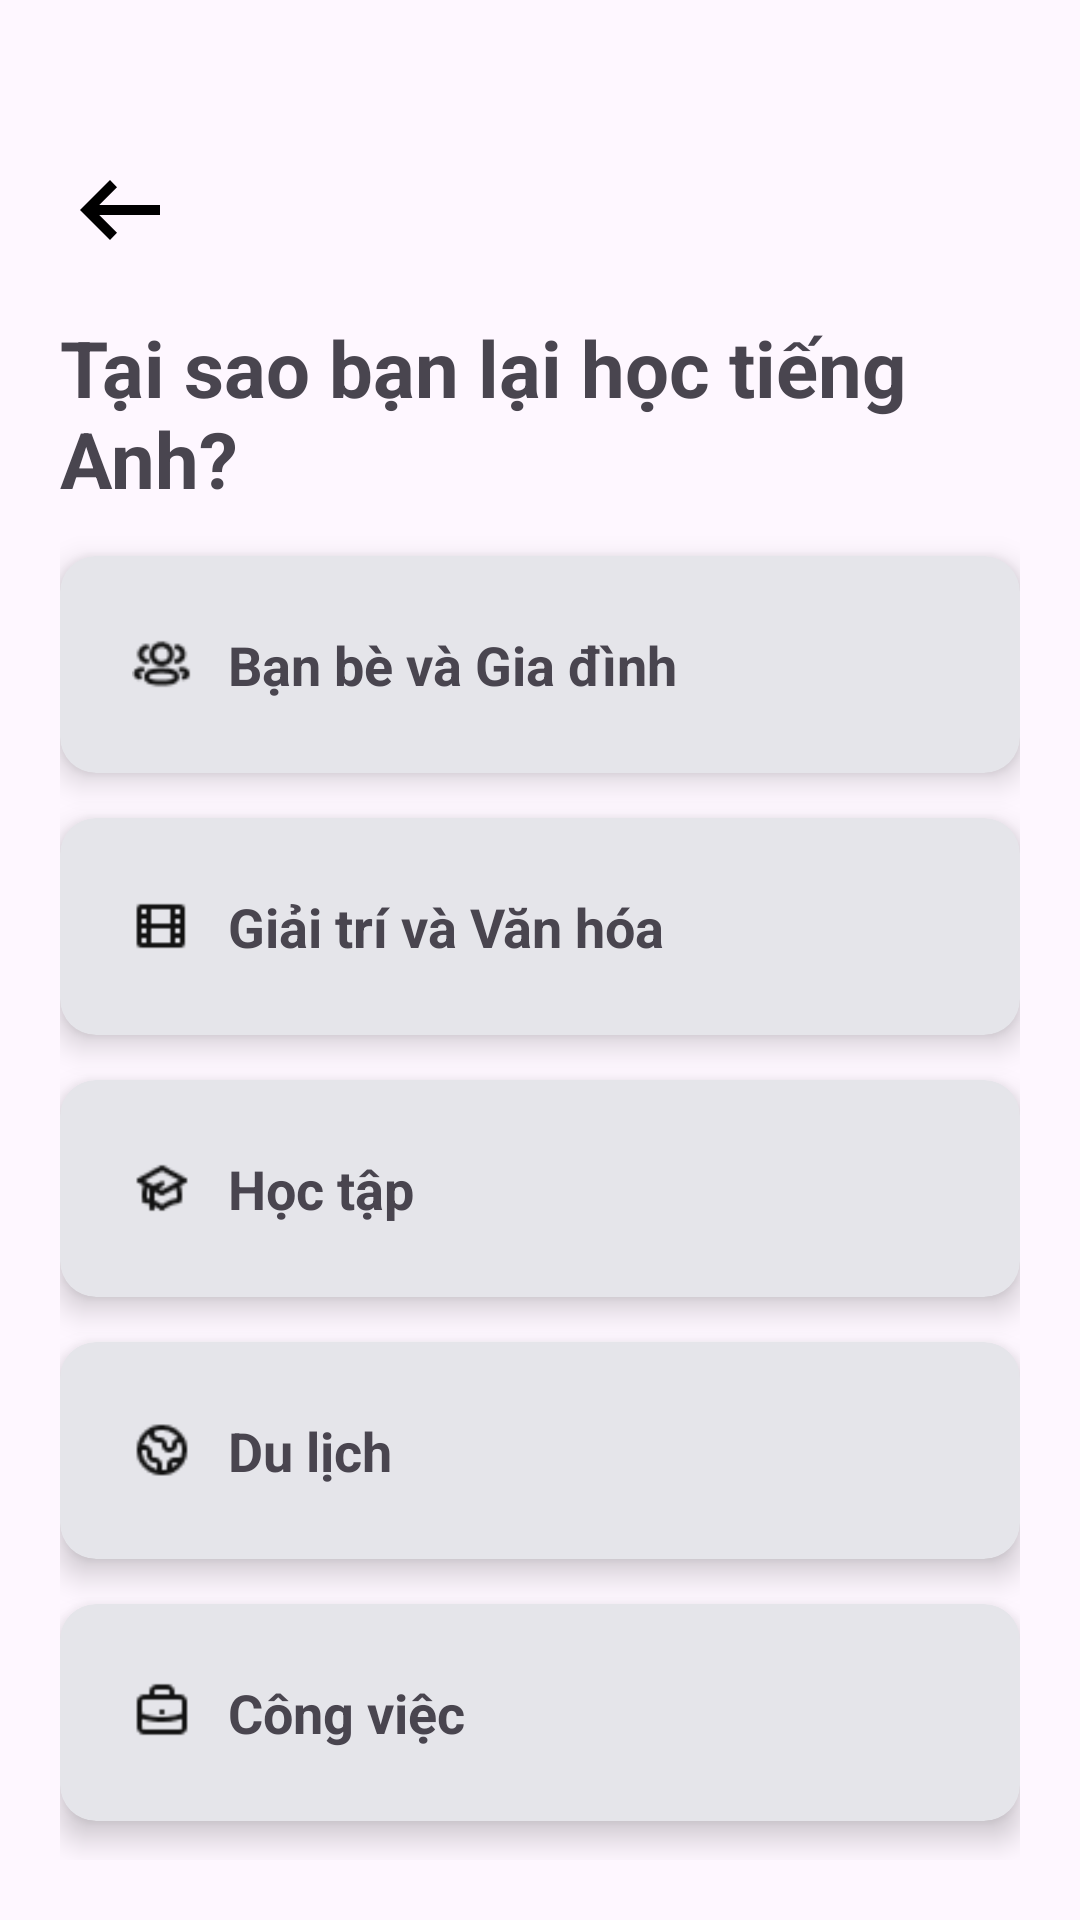

Screen size 1080*1920. Icon name, then its box in pixels as (x1, y1, x2, y2):
arrow left: (80, 180, 160, 240)
entertainment: (136, 903, 186, 949)
family: (132, 641, 190, 687)
study: (136, 1165, 188, 1211)
trip: (136, 1424, 188, 1476)
work: (136, 1684, 188, 1735)
